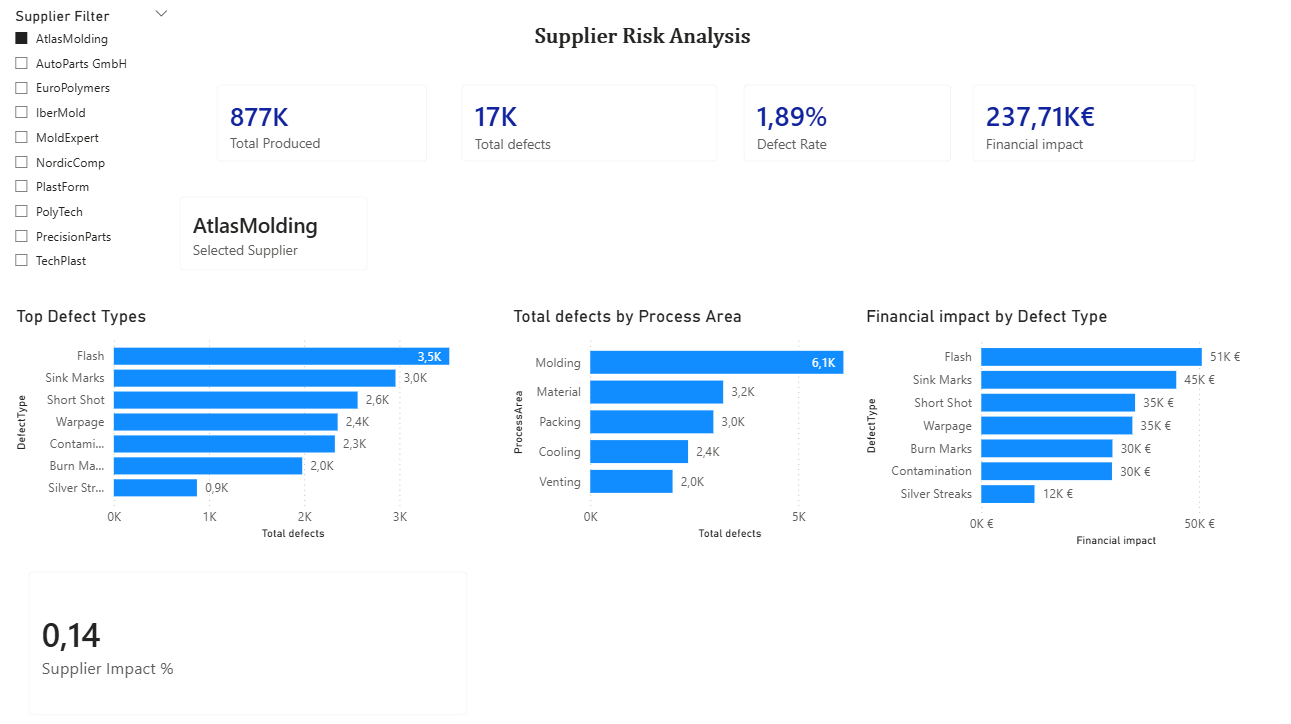

This screenshot's page, from the dashboard's own definition file:
{"tool":"powerbi","page":{"name":"Supplier analysis","canvas":[1280,720],"ordinal":1},"visuals":[{"type":"textbox","box":[522,24,323,48],"z":3},{"type":"slicer","fields":{"Values":["dimSuppliers.SupplierName"]},"box":[10,9,145,270],"z":4},{"type":"cardVisual","fields":{"Data":["factProduction.Total Produced"]},"box":[201,72,239,109],"z":5},{"type":"cardVisual","fields":{"Data":["factProduction.Total defects"]},"box":[440,72,283,109],"z":6},{"type":"cardVisual","fields":{"Data":["factProduction.Defect Rate"]},"box":[714,72,236,109],"z":7},{"type":"cardVisual","fields":{"Data":["factProduction.Financial impact"]},"box":[937,72,251,109],"z":8},{"type":"clusteredBarChart","title":"Defect type with more defects","fields":{"Y":["factProduction.Total defects"],"Category":["dimDefectTypes.DefectType"]},"box":[18,286,495,232],"z":9},{"type":"clusteredBarChart","title":"Total defects by Process Area","fields":{"Y":["factProduction.Total defects"],"Category":["dimDefectTypes.ProcessArea"]},"box":[502,286,364,232],"z":10},{"type":"clusteredBarChart","title":"Financial impact by Defect Type","fields":{"Category":["dimDefectTypes.DefectType"],"Y":["factProduction.Financial impact"]},"box":[847,279,400,239],"z":11}]}

Visuals, with their boxes in screenshot pixels (x1, y1, x2, y2), scaled from the page's 1280x720 canvas onto the 1291x724 screenshot:
textbox: bbox(526, 24, 852, 72)
slicer - dimSuppliers.SupplierName: bbox(10, 9, 156, 281)
cardVisual - factProduction.Total Produced: bbox(203, 72, 444, 182)
cardVisual - factProduction.Total defects: bbox(444, 72, 729, 182)
cardVisual - factProduction.Defect Rate: bbox(720, 72, 958, 182)
cardVisual - factProduction.Financial impact: bbox(945, 72, 1198, 182)
"Defect type with more defects" clusteredBarChart: bbox(18, 288, 517, 521)
"Total defects by Process Area" clusteredBarChart: bbox(506, 288, 873, 521)
"Financial impact by Defect Type" clusteredBarChart: bbox(854, 281, 1258, 521)
